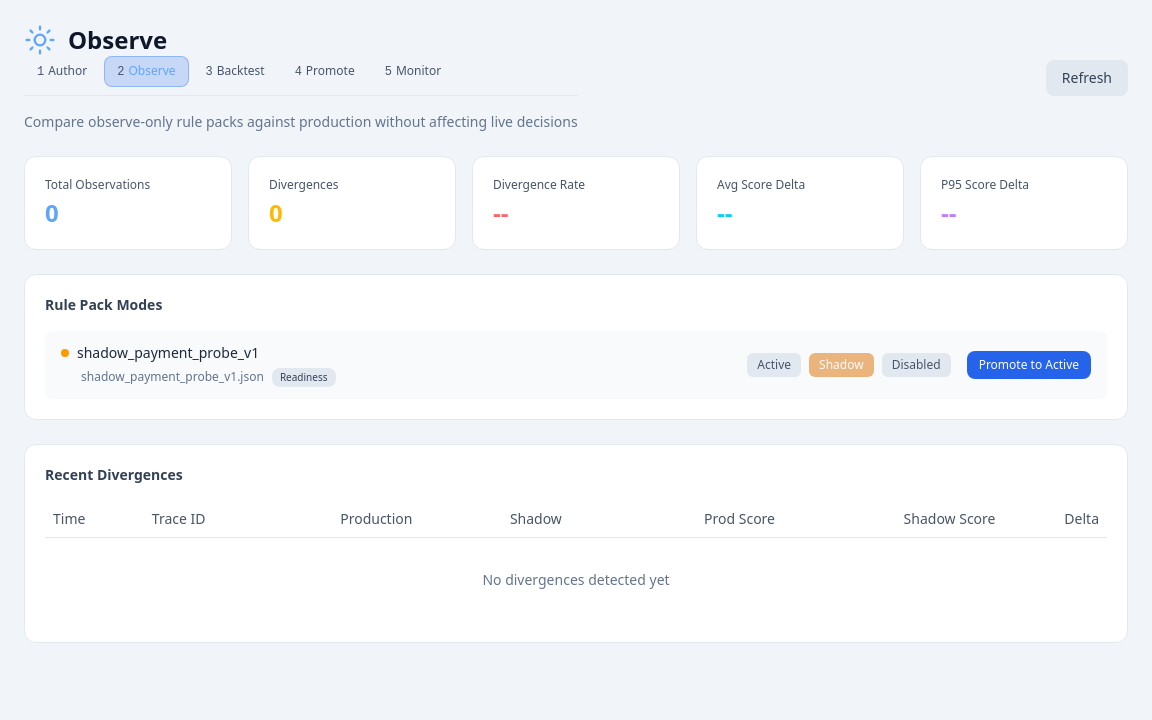
Observe pack modes › cancel on Promote confirm leaves the pack in shadow
The width and height of the screenshot is (1152, 720).
Click the button "Promote to Active".
click(1029, 365)  # box top-left (967, 351), bottom-right (1091, 379)
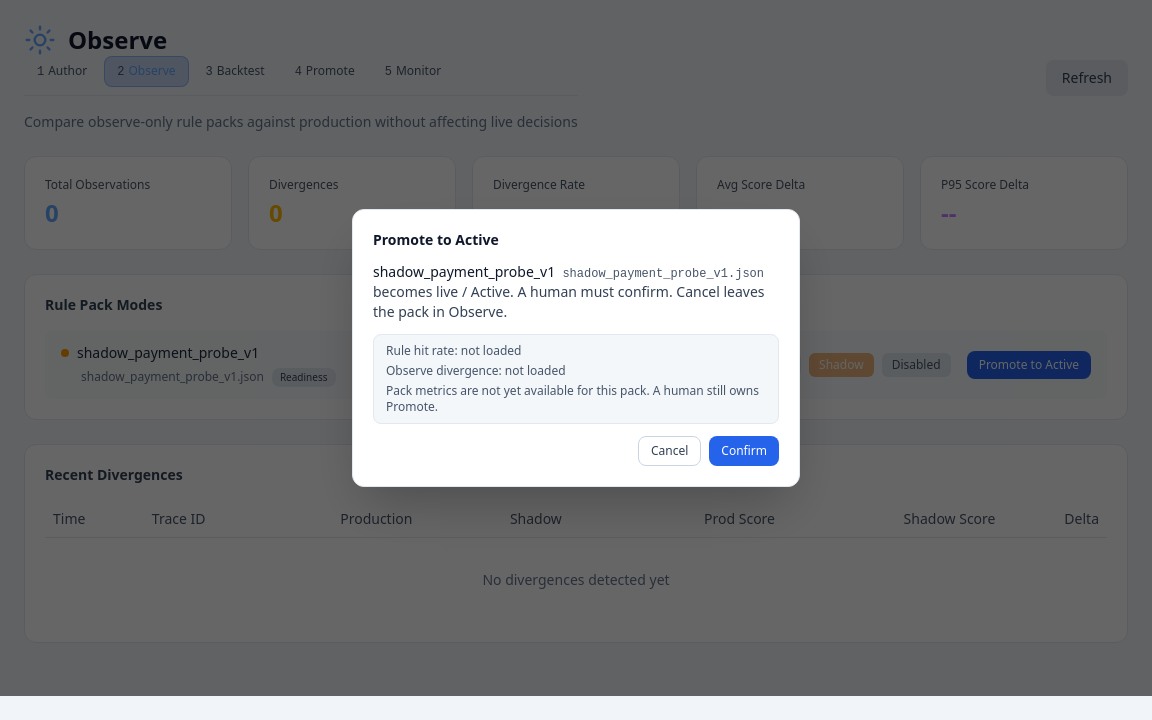
Click the button "Cancel".
click(670, 451)  # box top-left (638, 436), bottom-right (701, 466)
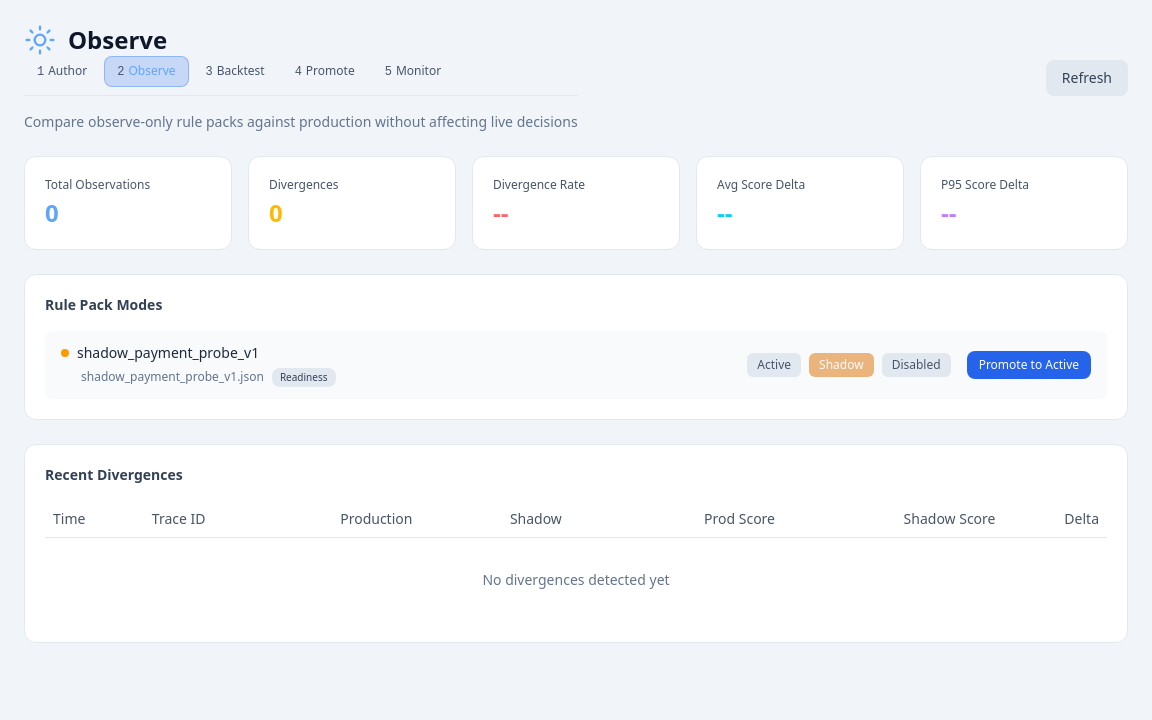
Check: the button "Promote to Active" is shown, box top-left (967, 351), bottom-right (1091, 379)
Check: the dialog is gone
